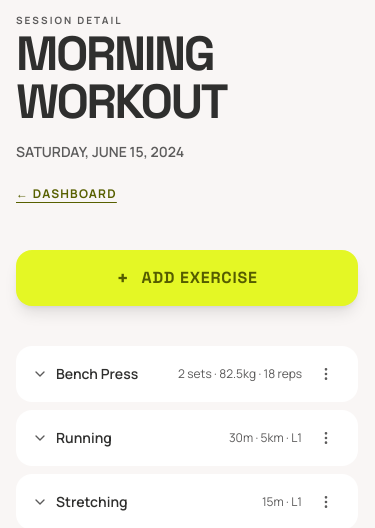
Test case: Workout › shows loading spinner during duplication
Click the button named "exercise options" next to "2 sets · 82.5kg · 18 reps" at (326, 374), box [310,358,342,390]
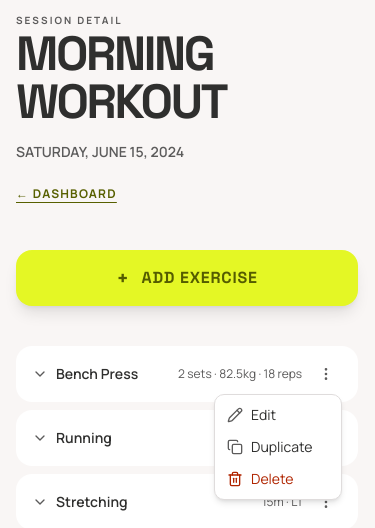
Click the menu item "Duplicate" at (270, 446), box [227,437,312,456]
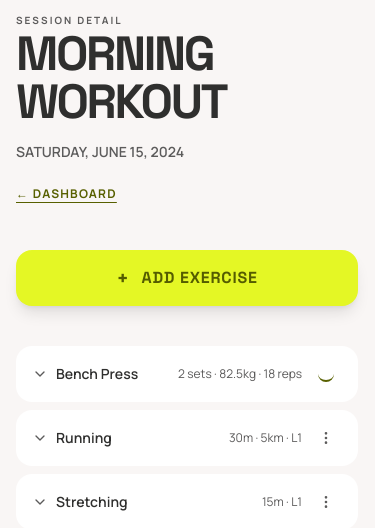
Check: the message is shown, box [318,366,334,382]
